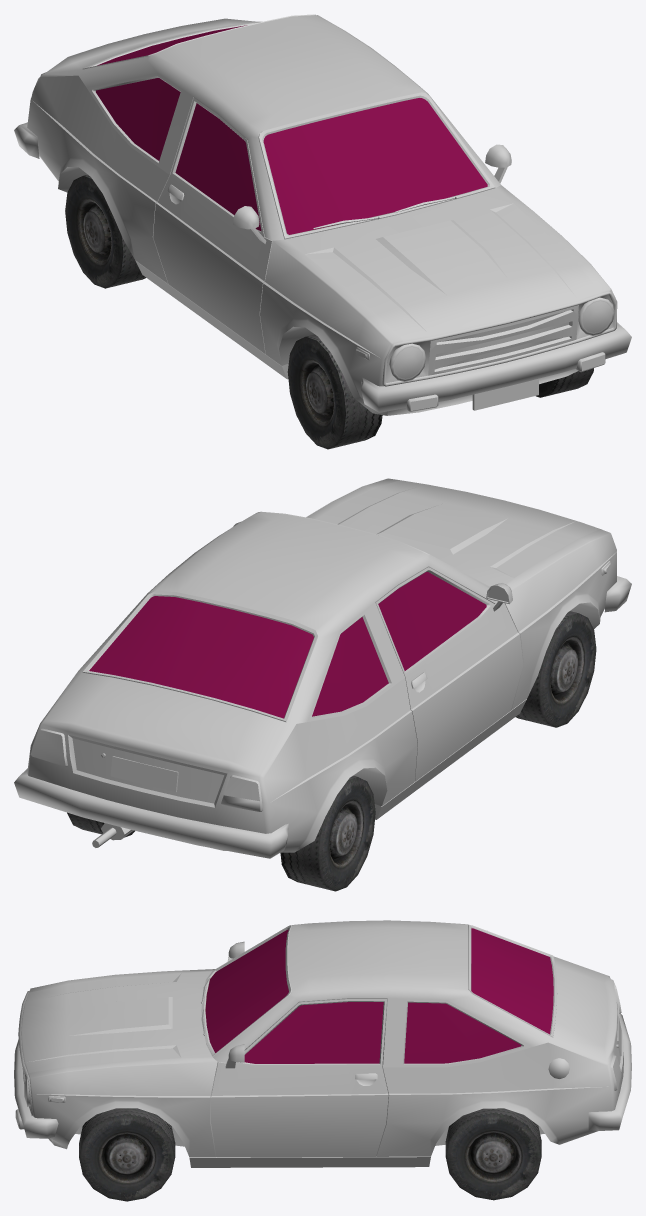
Rendered from DatsunCherry.FBX.
3 views of the same model, one above another, from view 1: azimuth 30°, elevation 25°; view 2: azimuth 150°, elevation 25°; view 3: azimuth 270°, elevation 25° (orthographic). The views are drawn at different scales.
Parts seen in each view (by area): view 1: Body, Glass, WheelFrontRight, WheelRearRight, WheelFrontLeft; view 2: Body, Glass, WheelRearRight, WheelFrontRight; view 3: Body, Glass, WheelFrontLeft, WheelRearLeft.
Part boxes in pixels (<box>): Body: <box>14,14,631,415</box>; Glass: <box>96,25,487,234</box>; WheelFrontRight: <box>287,334,382,449</box>; WheelRearRight: <box>65,174,145,288</box>; WheelFrontLeft: <box>536,368,593,397</box>; Body: <box>14,478,631,858</box>; Glass: <box>89,572,486,718</box>; WheelRearRight: <box>280,776,375,891</box>; WheelFrontRight: <box>516,611,596,727</box>; Body: <box>14,920,631,1167</box>; Glass: <box>205,928,553,1063</box>; WheelFrontLeft: <box>79,1108,175,1201</box>; WheelRearLeft: <box>445,1108,541,1200</box>.
Size of the model in its own units: 163 by 136 by 379.
